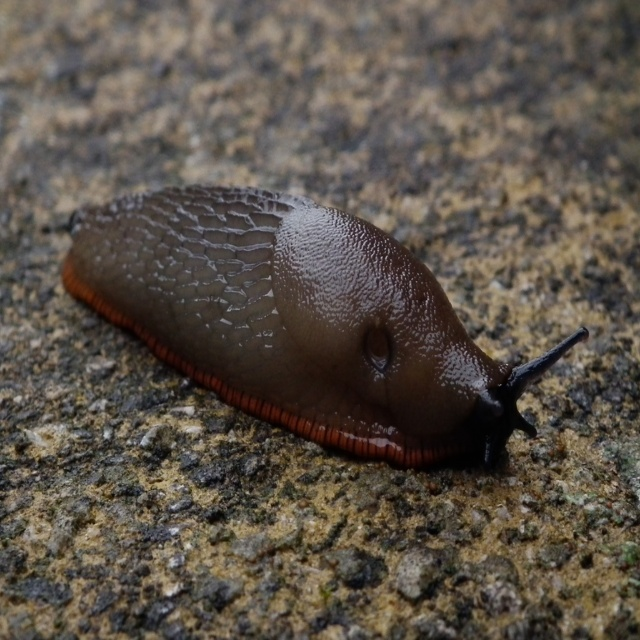Snail: (61, 180, 588, 474)
